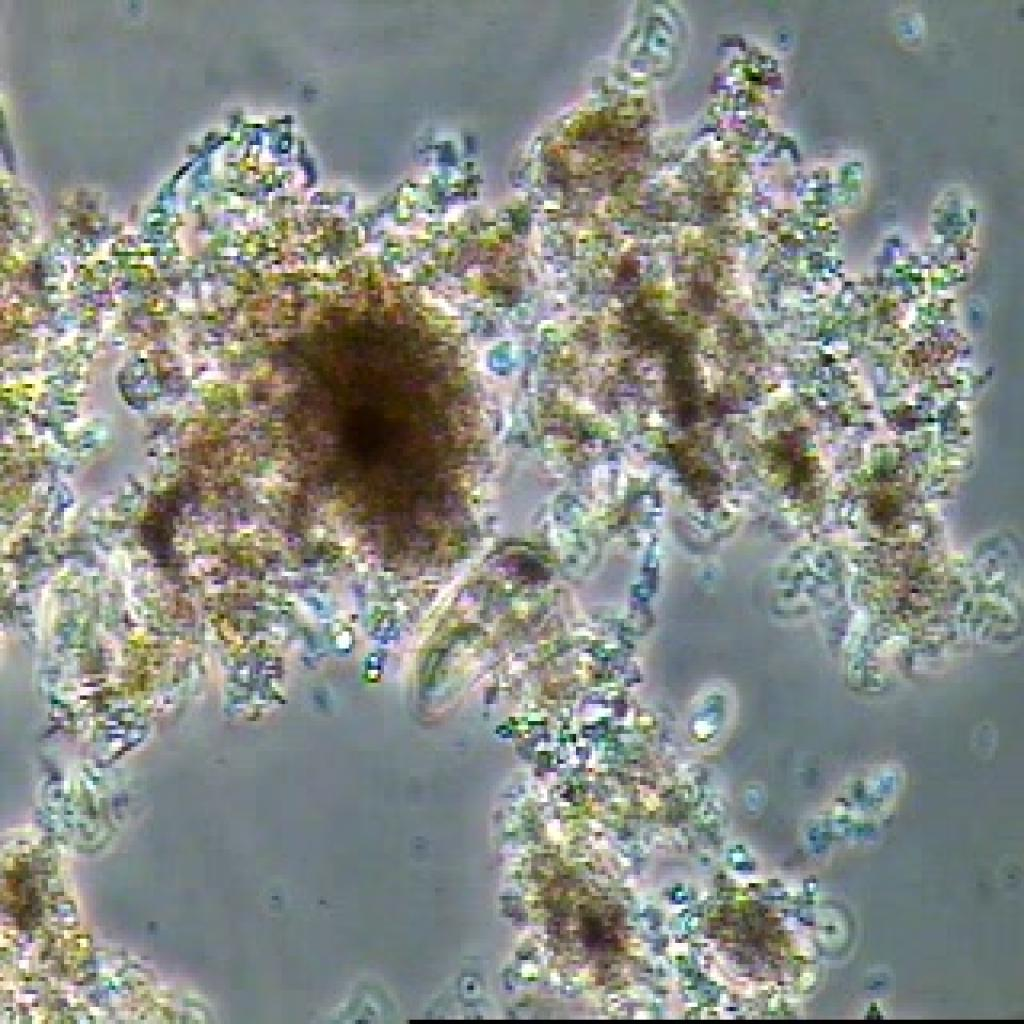Paramecium: (390, 514, 580, 740)
